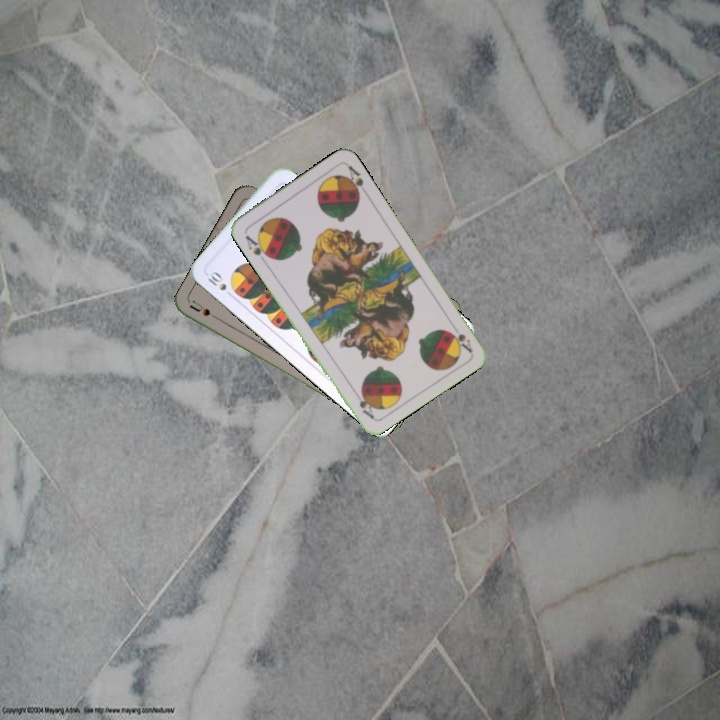S10: (203, 267, 236, 300)
SA: (241, 231, 273, 265), (444, 326, 475, 355)
SU: (186, 297, 225, 324)
